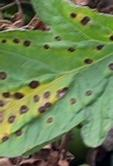Tomato Septoria leaf spot: (0, 0, 113, 162)
